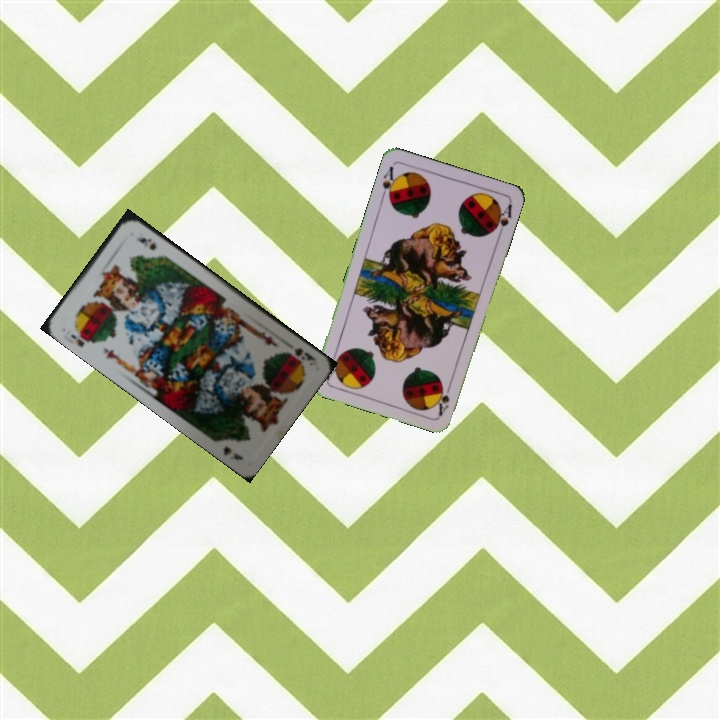SA: (378, 162, 400, 203), (434, 378, 455, 418)
SK: (282, 343, 319, 366), (66, 325, 97, 349)
